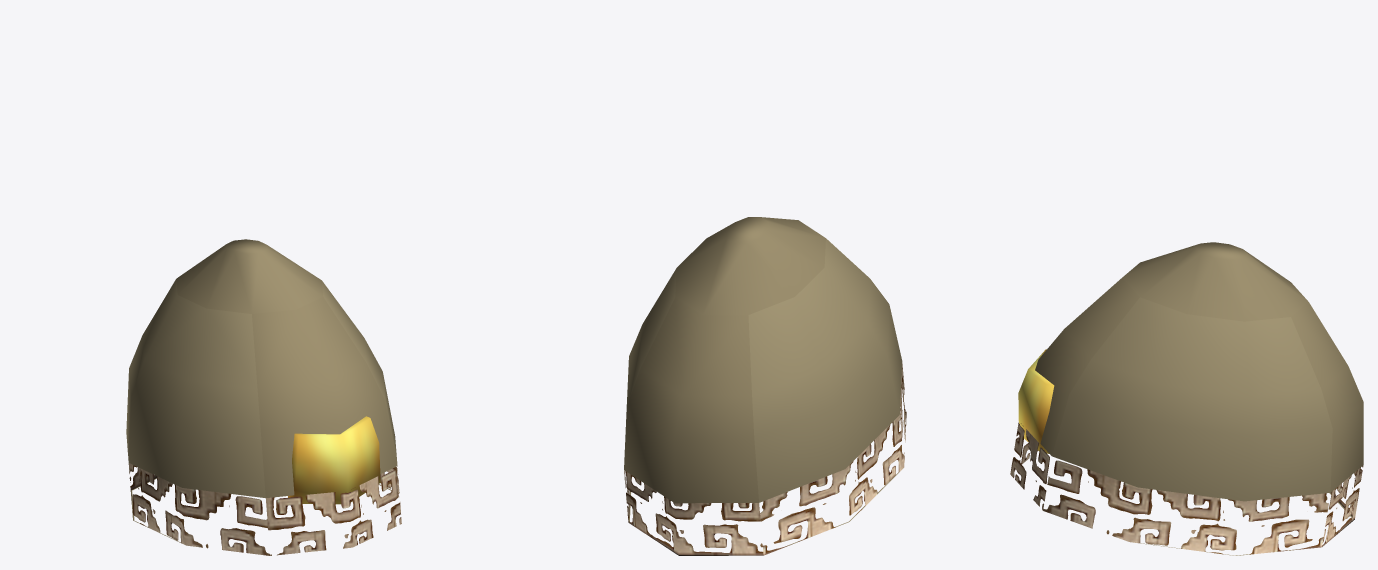
The model's file is inca_e_2.dae.
The picture shows the model from 3 angles, left to right: view 1: azimuth 30°, elevation 25°; view 2: azimuth 150°, elevation 25°; view 3: azimuth 270°, elevation 25°; orthographic projection. The views are drawn at different scales.
Visible parts, largest first — view 1: inca_e_2; view 2: inca_e_2; view 3: inca_e_2.
Boxes of the visible parts, x1,y1,x2,y2 form: inca_e_2: [126, 239, 401, 555]; inca_e_2: [624, 217, 906, 555]; inca_e_2: [1010, 242, 1363, 555].
Bounding box in the file's own units: 0.9246 × 0.6112 × 0.9034.
